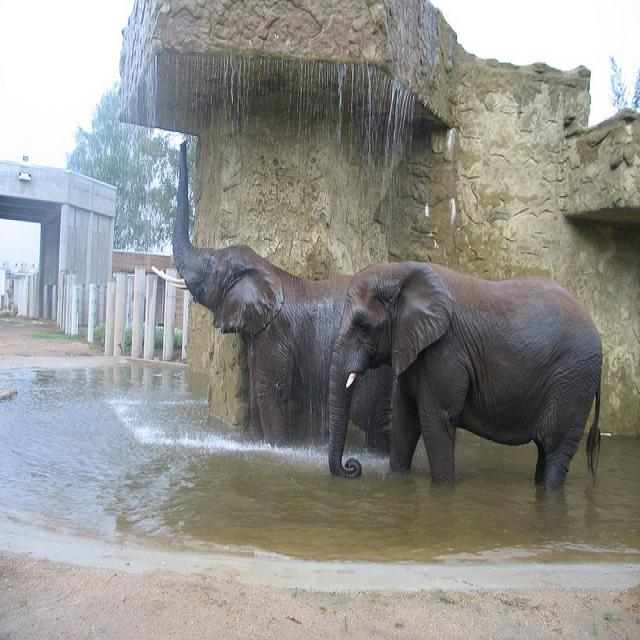Elephant: (162, 138, 396, 450), (326, 259, 603, 492)
